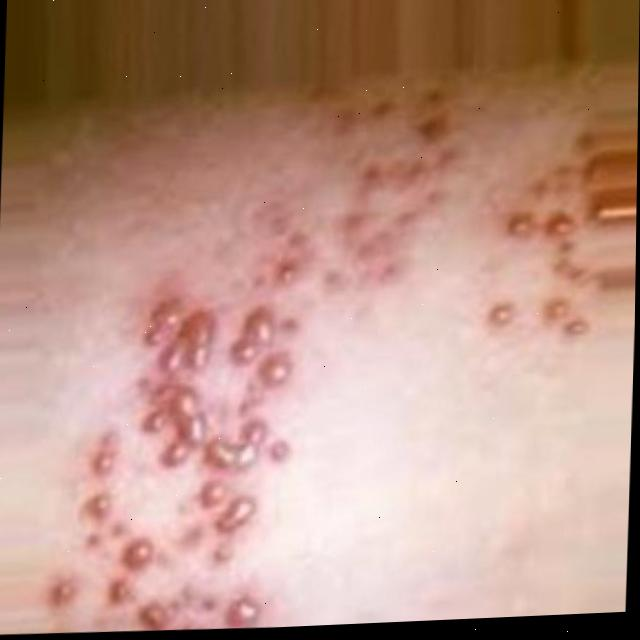Shingles: (37, 74, 458, 638), (483, 118, 604, 349)
